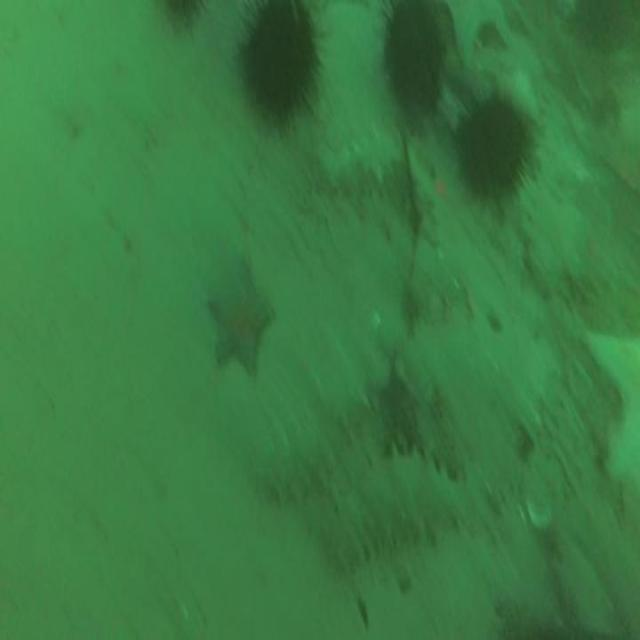echinus: (238, 0, 318, 120), (454, 97, 527, 199), (382, 3, 443, 122)
holothurian: (325, 449, 467, 575), (247, 411, 342, 502), (316, 133, 407, 188)
scallop: (527, 490, 551, 532)
starfish: (206, 264, 272, 376)
